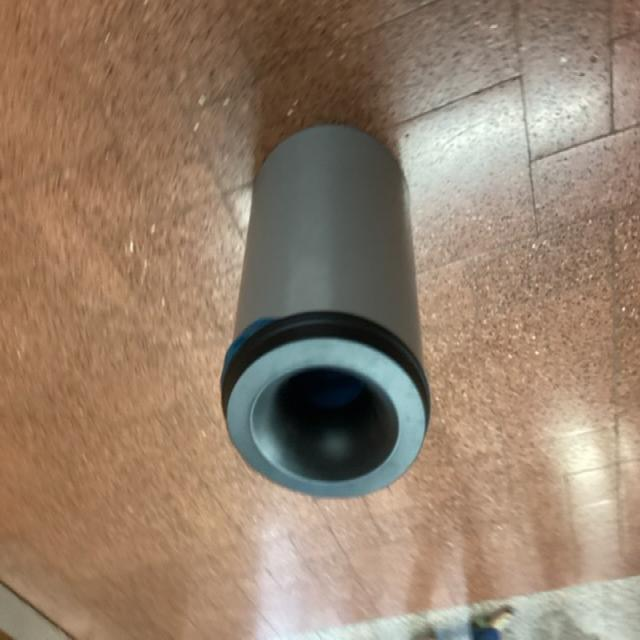garbage container: (175, 115, 448, 536)
